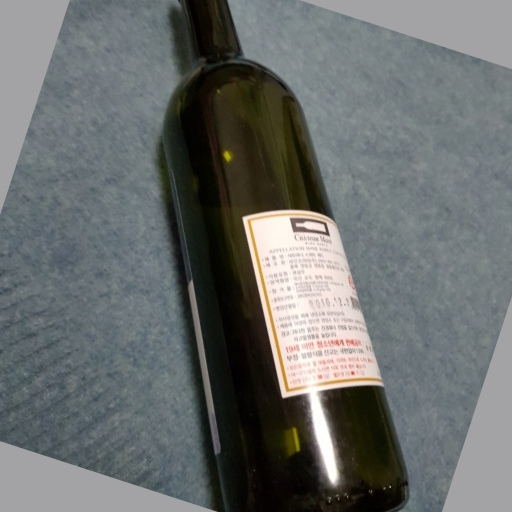Glass_2: (158, 4, 411, 512)
